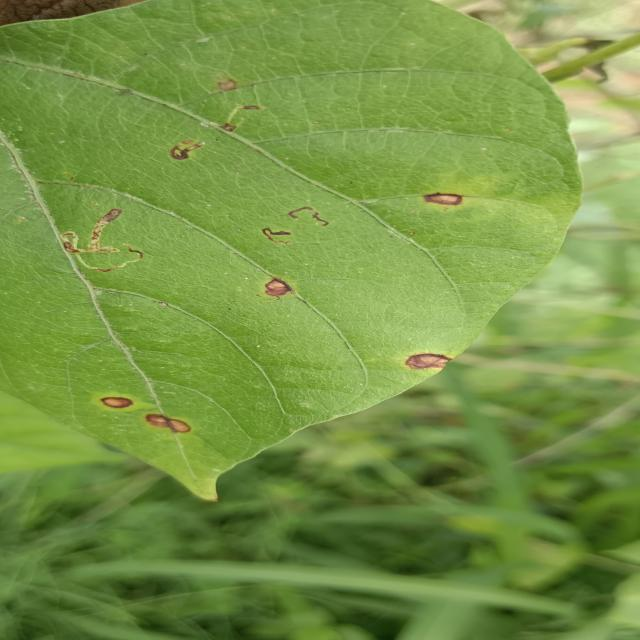Dolicos bean_cercospora leaf spot: (0, 0, 573, 506)
